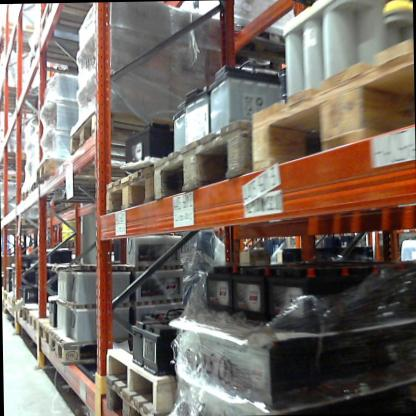pallet: (246, 34, 412, 176), (152, 118, 248, 204), (102, 341, 187, 412), (39, 1, 168, 39), (69, 108, 159, 159), (35, 149, 121, 190), (26, 33, 105, 75), (101, 161, 155, 222), (103, 372, 175, 416), (49, 329, 126, 365), (28, 172, 102, 203), (0, 35, 37, 59), (1, 17, 40, 39), (27, 311, 61, 335), (0, 81, 45, 99), (18, 302, 53, 322), (0, 149, 34, 169), (40, 320, 56, 350), (15, 187, 38, 203)
